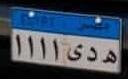1: (27, 35, 35, 58), (53, 38, 60, 60), (40, 37, 47, 59), (16, 34, 21, 57)
daal: (84, 44, 100, 64)
haa: (101, 47, 119, 65)
yaa: (67, 42, 83, 62)
